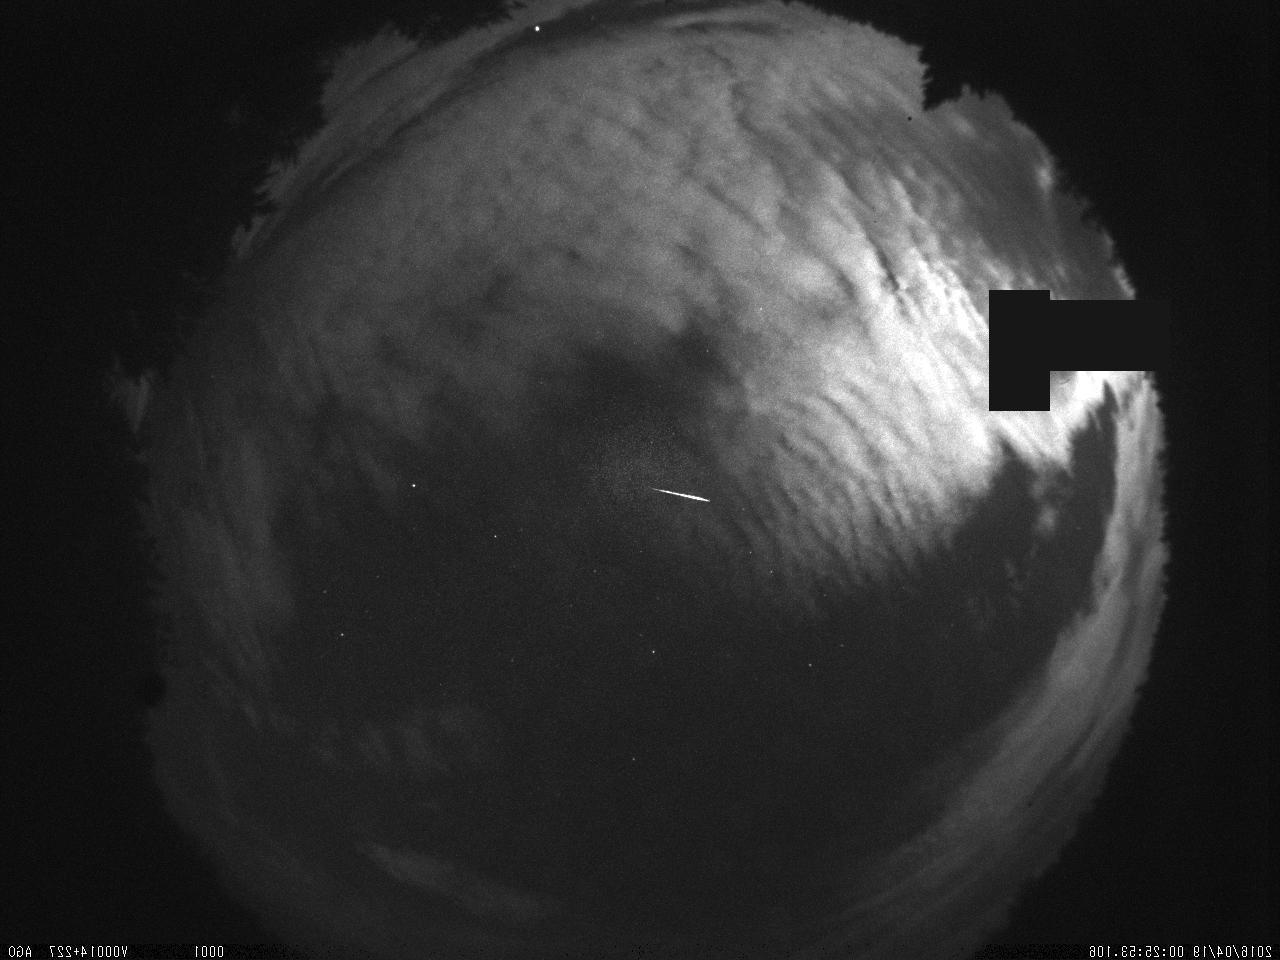meteor: (630, 475, 728, 512)
